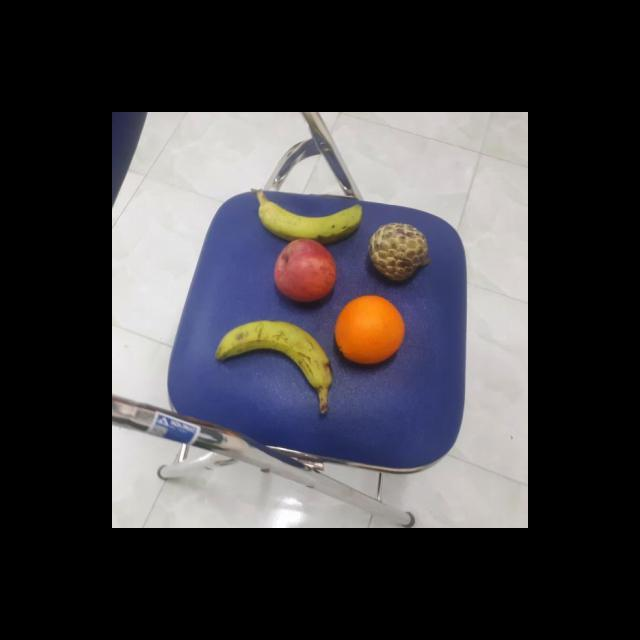Sakya fruit: (366, 218, 432, 282)
apple: (270, 239, 340, 302)
banana: (213, 318, 332, 392), (252, 188, 364, 242)
orange: (331, 295, 408, 365)
